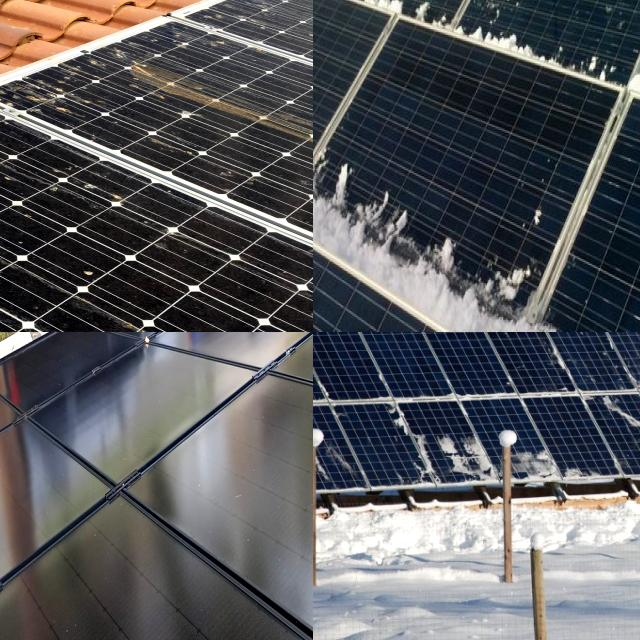bird: (0, 71, 54, 119), (0, 285, 31, 332), (0, 245, 24, 289)
panel: (313, 145, 546, 332), (473, 10, 640, 92), (392, 411, 566, 488), (313, 65, 379, 237), (340, 0, 469, 33), (593, 376, 640, 466), (313, 0, 358, 35), (313, 439, 340, 492), (538, 332, 612, 345)
